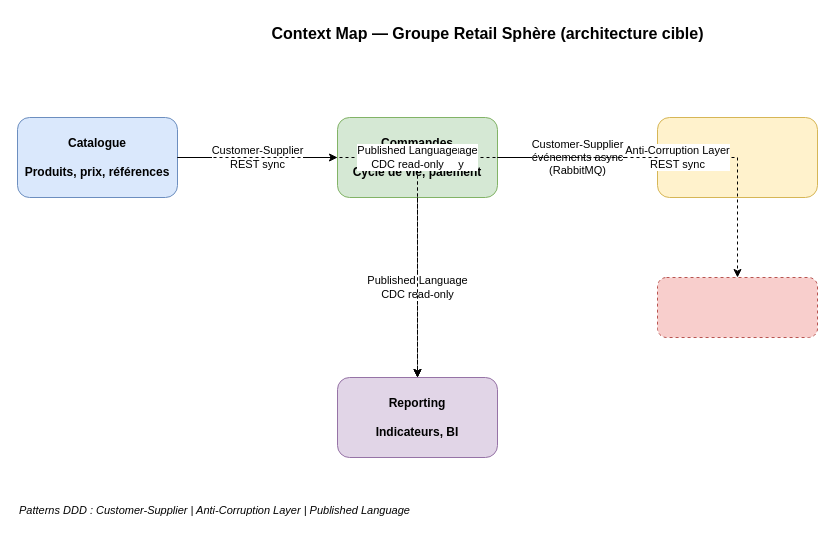
This 835x544 diagram has some shape labels left out. Each missing label, with the centre of its shape:
Paiement (externe): point 737,307
Stock Niveaux, réservations: point 737,157
